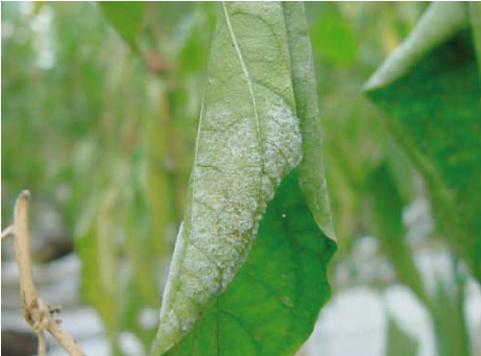powdery_mildew: (140, 10, 336, 319)
